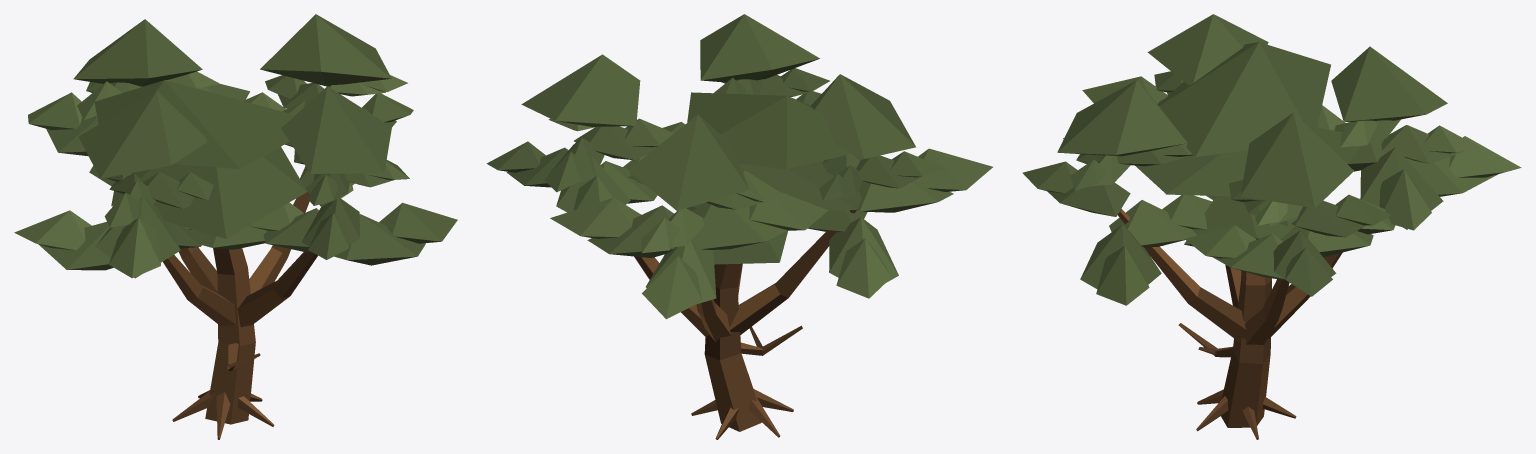
File: pine-09-far.glb
3 renders of one model, left to right at view 1: azimuth 30°, elevation 25°; view 2: azimuth 150°, elevation 25°; view 3: azimuth 270°, elevation 25°, orthographic.
Visible parts, largest first — view 1: pine-09-far; view 2: pine-09-far; view 3: pine-09-far.
Part boxes in pixels (bbox=[...]): pine-09-far: bbox=[14, 14, 457, 439]; pine-09-far: bbox=[486, 14, 992, 439]; pine-09-far: bbox=[1022, 14, 1521, 439].
Bounding box in the file's own units: 5.76 × 5 × 6.2.
